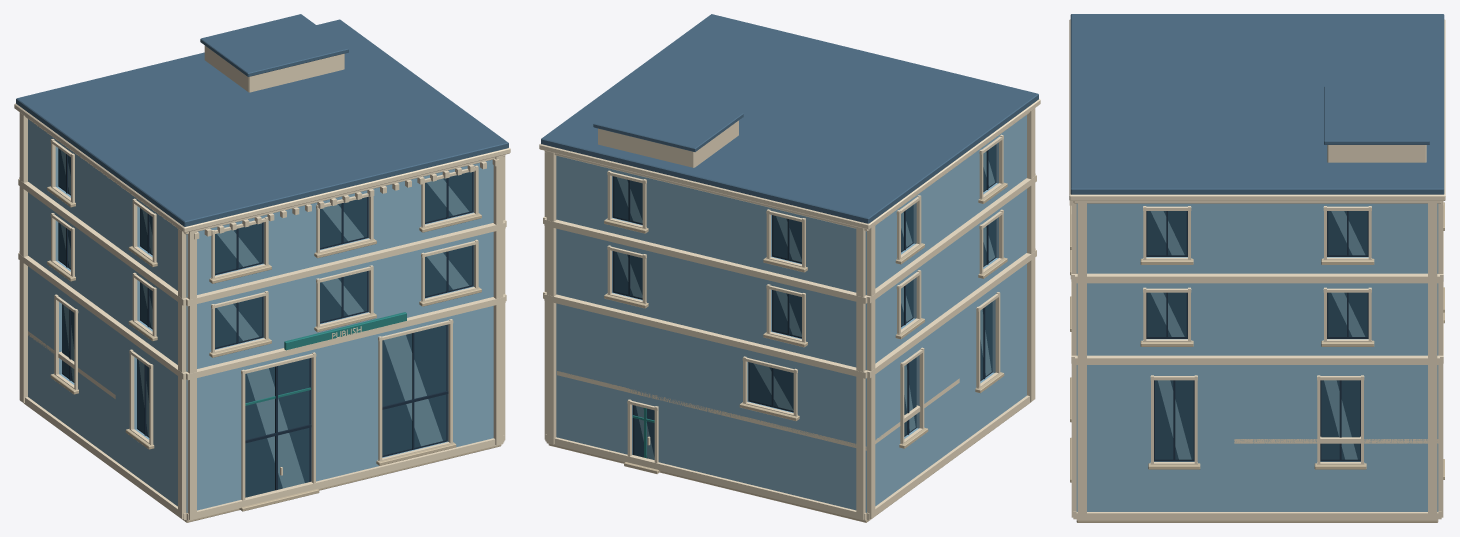
The model's file is publishing_office.glb.
3 renders of one model, left to right at view 1: azimuth 30°, elevation 25°; view 2: azimuth 150°, elevation 25°; view 3: azimuth 270°, elevation 25°, orthographic. The views are drawn at different scales.
Parts seen in each view (by area): view 1: PublishingOffice_StaticMesh; view 2: PublishingOffice_StaticMesh; view 3: PublishingOffice_StaticMesh.
Boxes of the visible parts, x1,y1,x2,y2 form: PublishingOffice_StaticMesh: [14, 14, 510, 522]; PublishingOffice_StaticMesh: [539, 14, 1040, 522]; PublishingOffice_StaticMesh: [1069, 14, 1445, 522].
Bounding box in the file's own units: 14.32 × 13.65 × 12.92.
